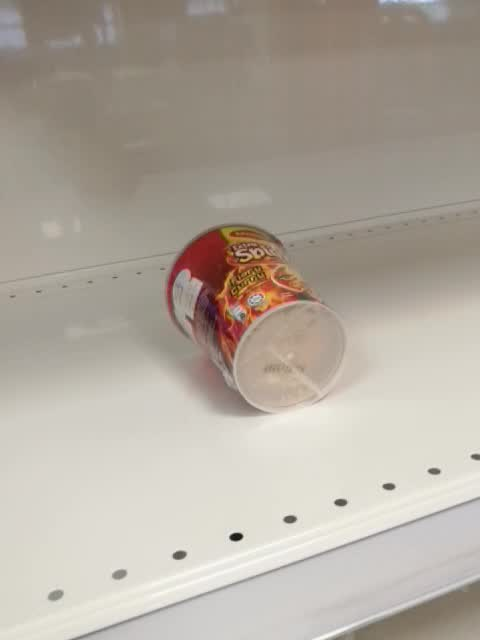maggi: (162, 221, 348, 416)
